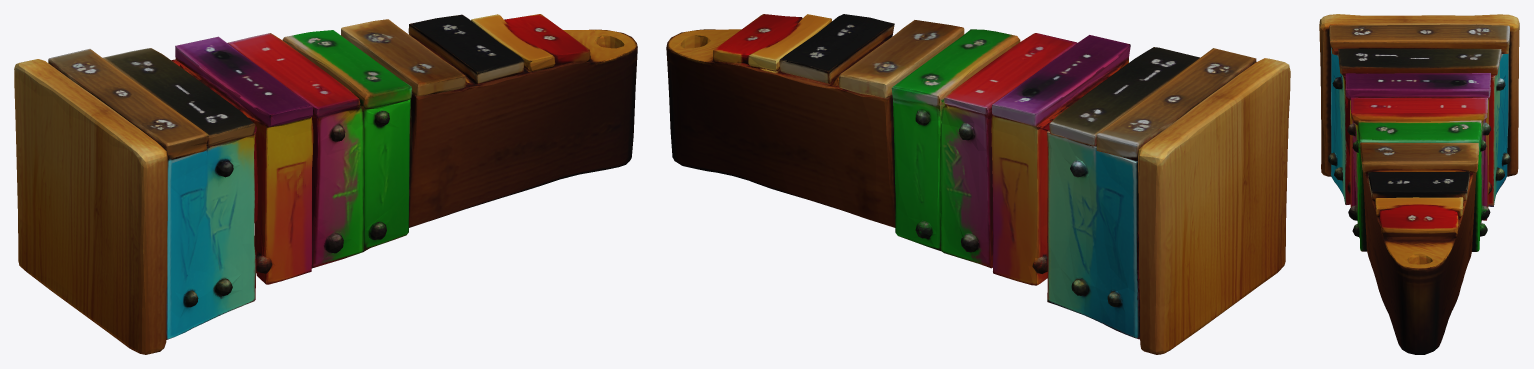
Rendered from wooden-xylophone-futuristic.jpeg.glb.
The picture shows the model from 3 angles, left to right: view 1: azimuth 30°, elevation 25°; view 2: azimuth 150°, elevation 25°; view 3: azimuth 270°, elevation 25°; orthographic projection. The views are drawn at different scales.
Parts seen in each view (by area): view 1: world; view 2: world; view 3: world.
Boxes of the visible parts, x1,y1,x2,y2 form: world: [14, 14, 637, 354]; world: [666, 14, 1290, 354]; world: [1319, 14, 1519, 354].
Bounding box in the file's own units: 0.9944 × 0.3495 × 0.4071.
1 material, 1 textured.
